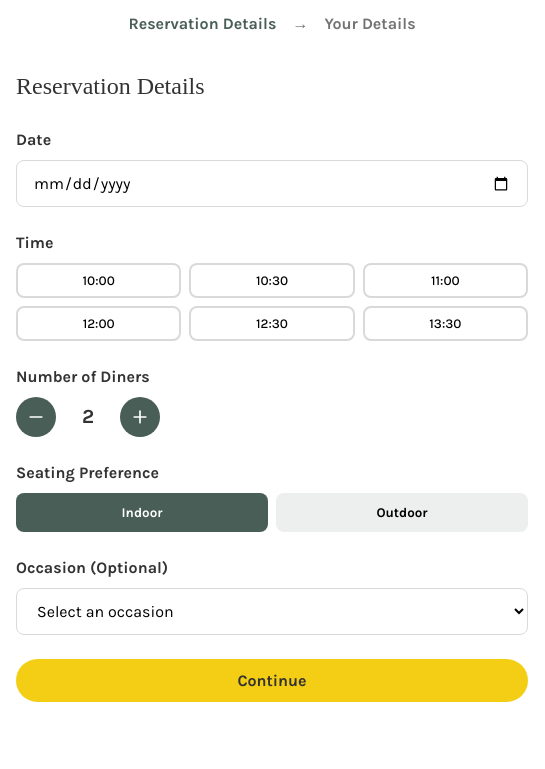
Scenario: BookingForm › displays validation errors when continuing without required fields
Click the button "Continue" at (272, 680), box [16,659,528,702]
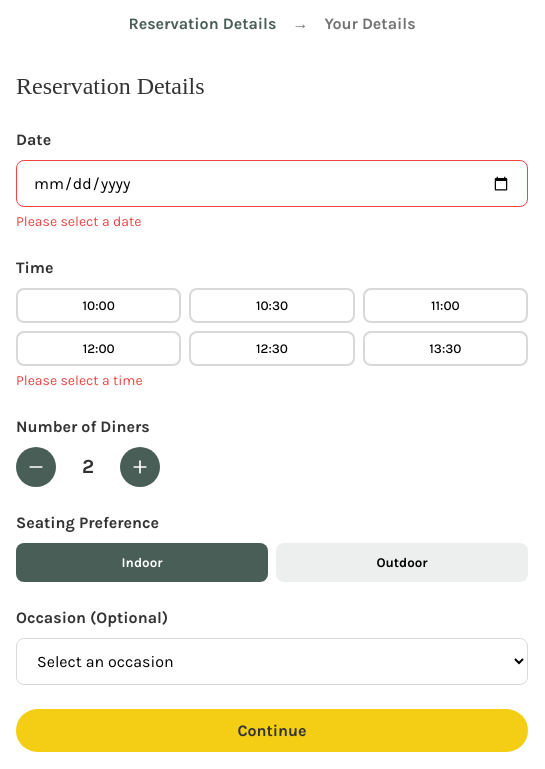
Expected: the text "Please select a date" is shown, [16,213,141,230]
